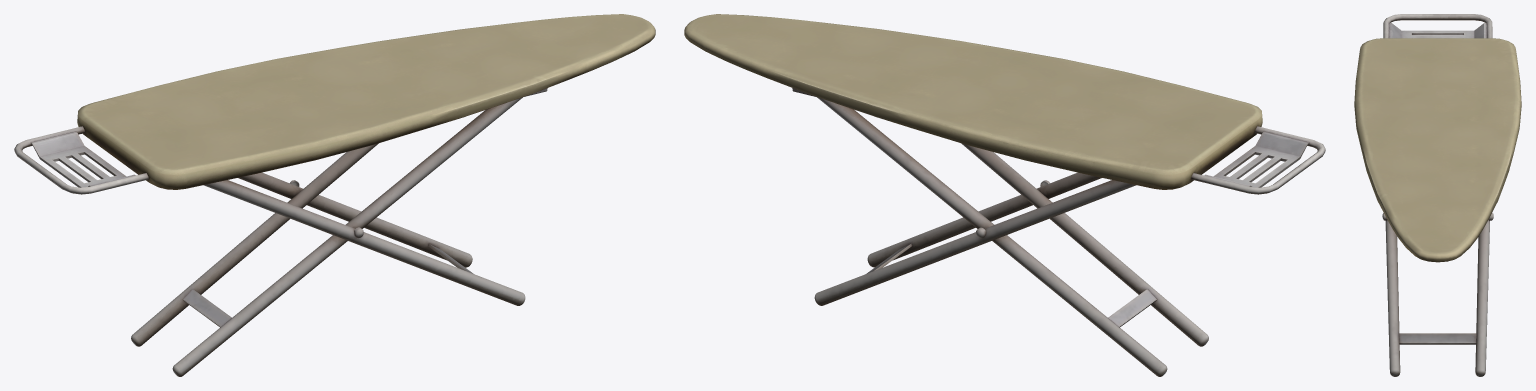
The model's file is SM_ironingBoard.fbx.
3 views of the same model, side by side, from view 1: azimuth 30°, elevation 25°; view 2: azimuth 150°, elevation 25°; view 3: azimuth 270°, elevation 25° (orthographic). The views are drawn at different scales.
Parts seen in each view (by area): view 1: SM_ironingBoard_LOD0; view 2: SM_ironingBoard_LOD0; view 3: SM_ironingBoard_LOD0.
Boxes of the visible parts, box(x1,y1,x2,y2) form: SM_ironingBoard_LOD0: box(14, 14, 655, 376); SM_ironingBoard_LOD0: box(684, 14, 1325, 376); SM_ironingBoard_LOD0: box(1354, 14, 1521, 376).
Size of the model in its own units: 189 by 55.39 by 69.85.
1 material, 1 textured.
